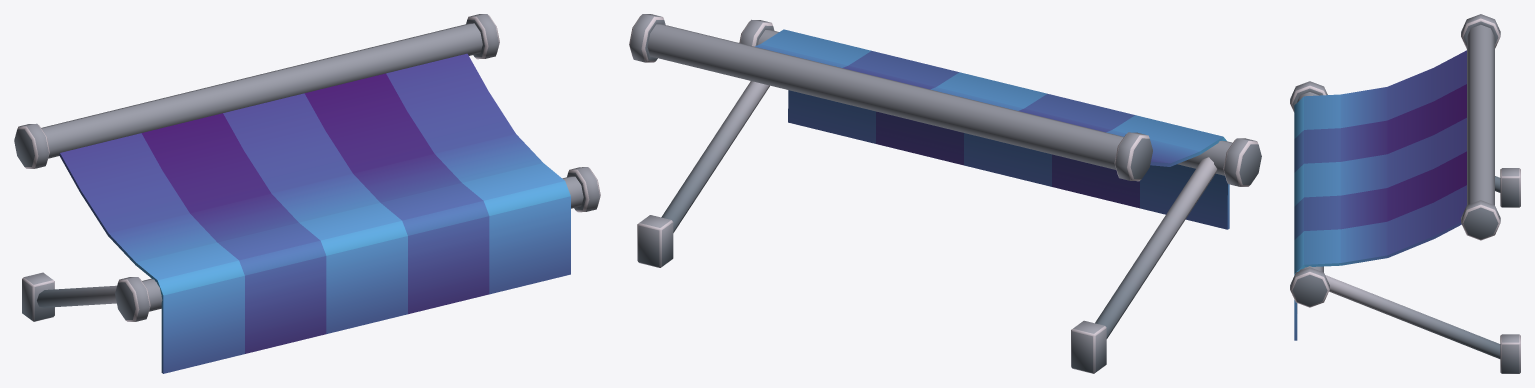
The model's file is sp_build_prop_awning05.fbx.
3 renders of one model, left to right at view 1: azimuth 30°, elevation 25°; view 2: azimuth 150°, elevation 25°; view 3: azimuth 270°, elevation 25°, orthographic. The views are drawn at different scales.
Parts seen in each view (by area): view 1: build_prop_awning_04; view 2: build_prop_awning_04; view 3: build_prop_awning_04.
Part boxes in pixels (x1,y1,x2,y2): build_prop_awning_04: (14, 14, 600, 373); build_prop_awning_04: (629, 14, 1261, 373); build_prop_awning_04: (1290, 14, 1520, 373).
Size of the model in its own units: 291 by 125 by 148.
